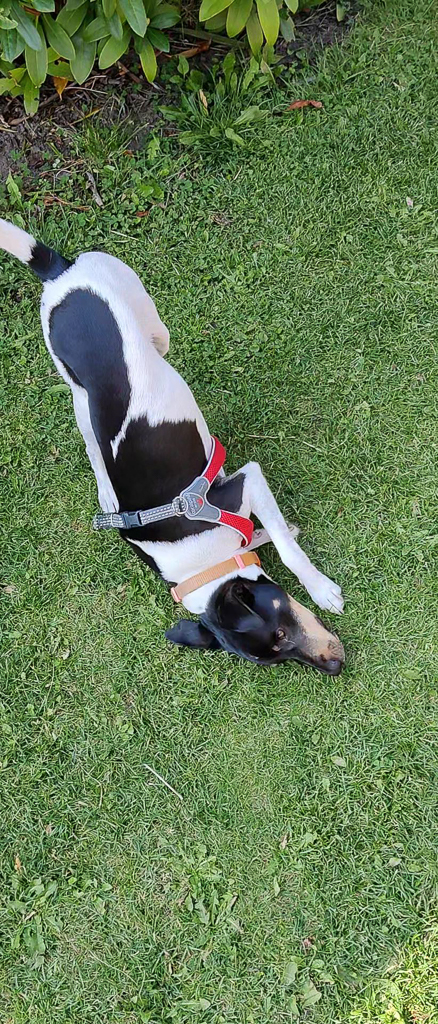Dog: (0, 203, 379, 700)
